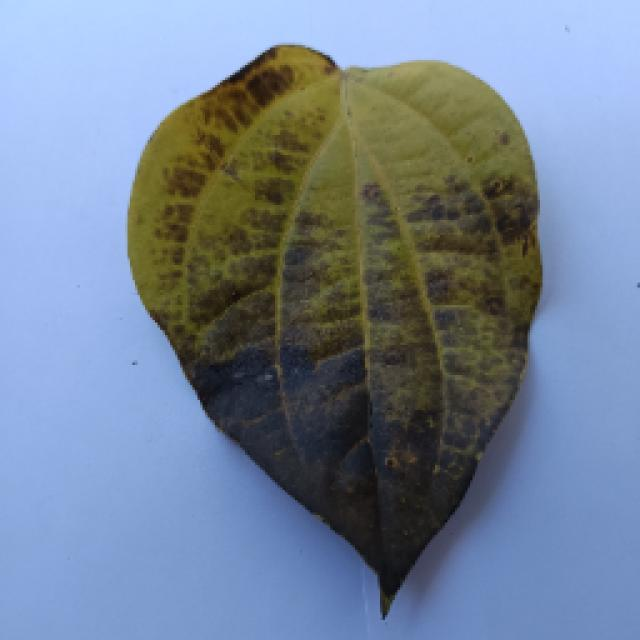slow-decline: (85, 60, 575, 625)
